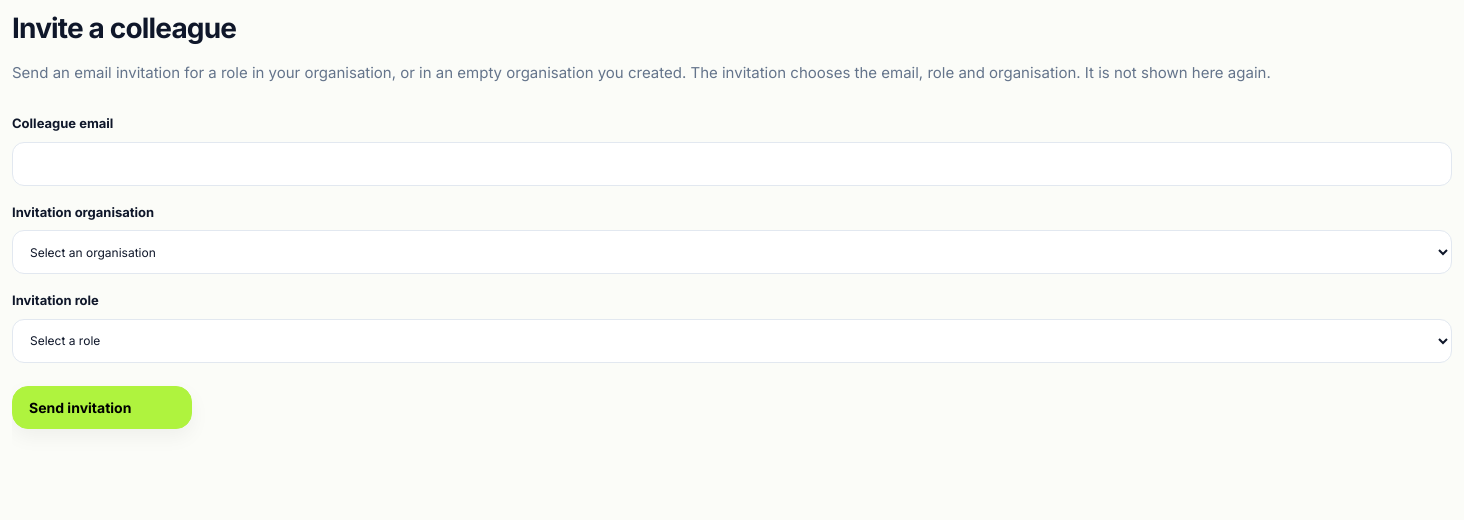
invite a colleague › shows success without a token and keeps a delivery failure visible
Type "guest@example.com" into the field labelled "Colleague email" at point(732, 164), box [12,142,1452,186]
Select "Harbourline Logistics (Demo)" in the dropdown labelled "Invitation organisation" at point(732, 252), box [12,230,1452,274]
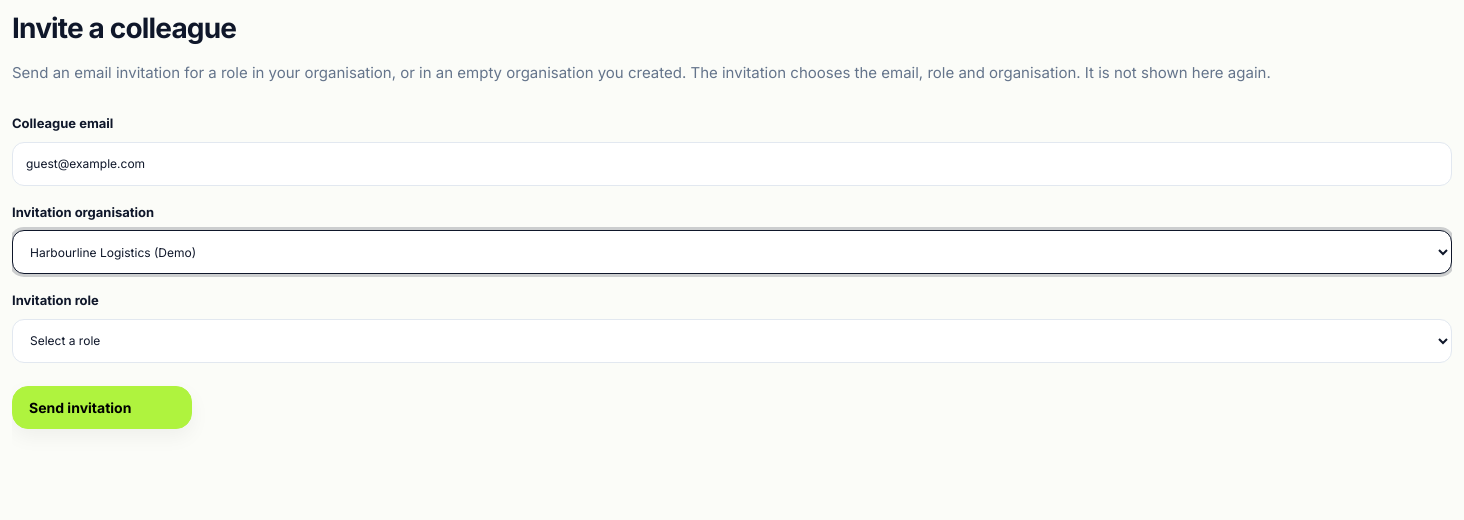
Select "Freight forwarder" in the dropdown labelled "Invitation role" at point(732, 340), box [12,318,1452,362]
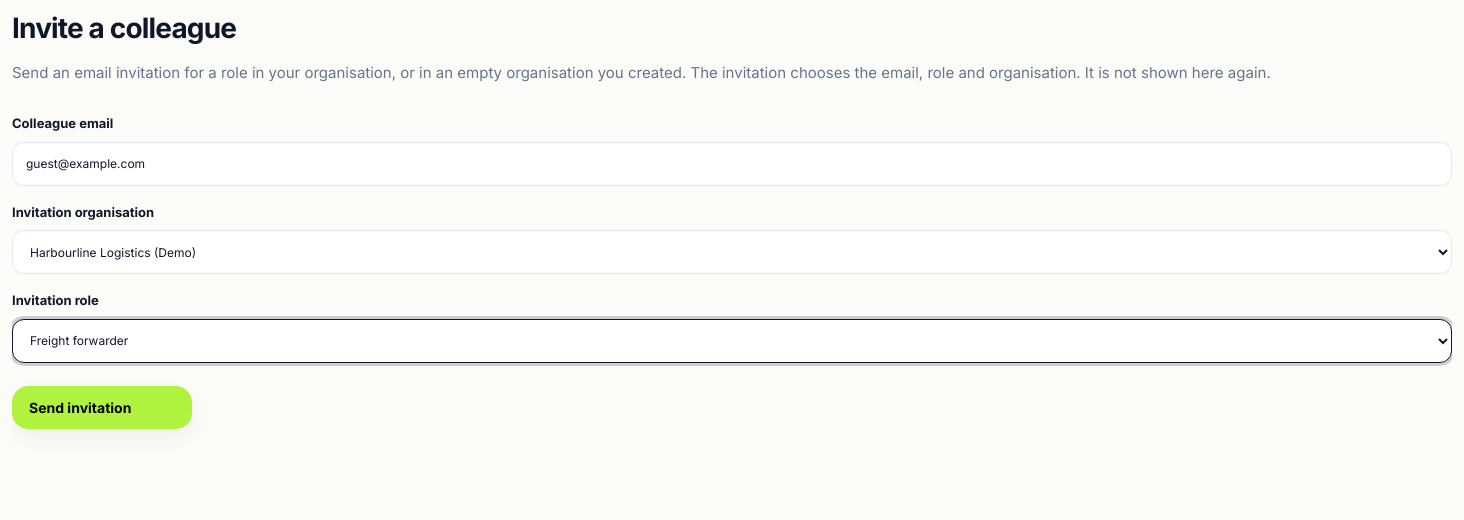
Click the button "Send invitation" at point(102, 407), box [12,386,192,428]
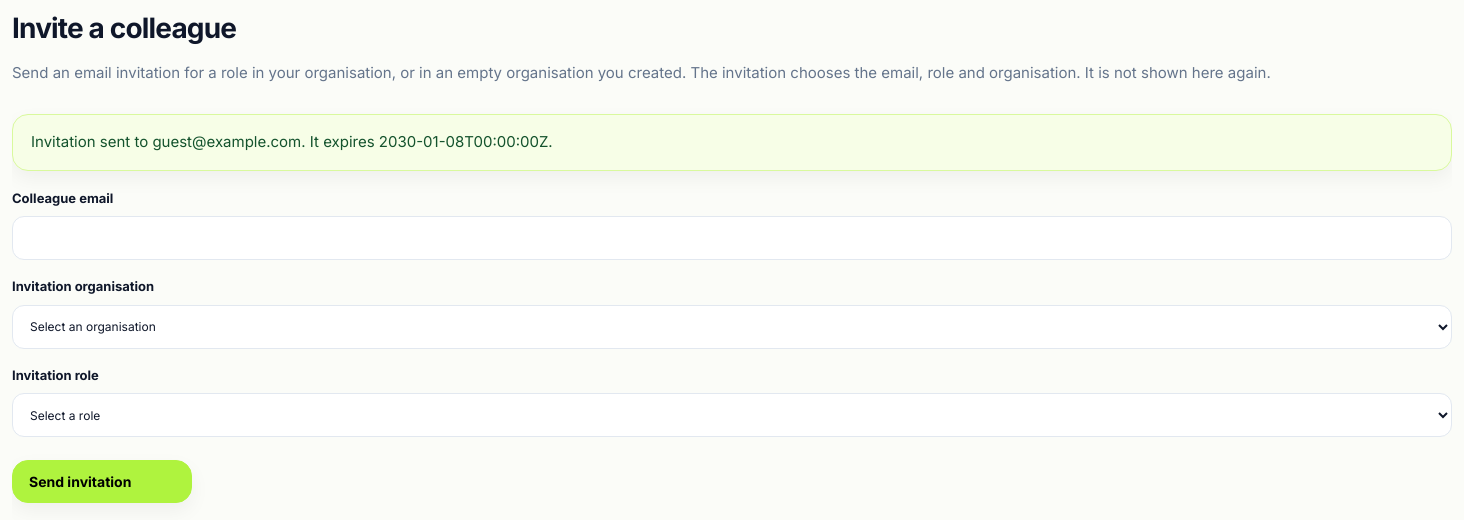
Expected: the message shows "Invitation sent to guest@example.com", [31,132,553,151]
Type "again@example.com" into the field labelled "Colleague email" at point(732, 238), box [12,216,1452,260]
Select "Harbourline Logistics (Demo)" in the dropdown labelled "Invitation organisation" at point(732, 326), box [12,304,1452,348]
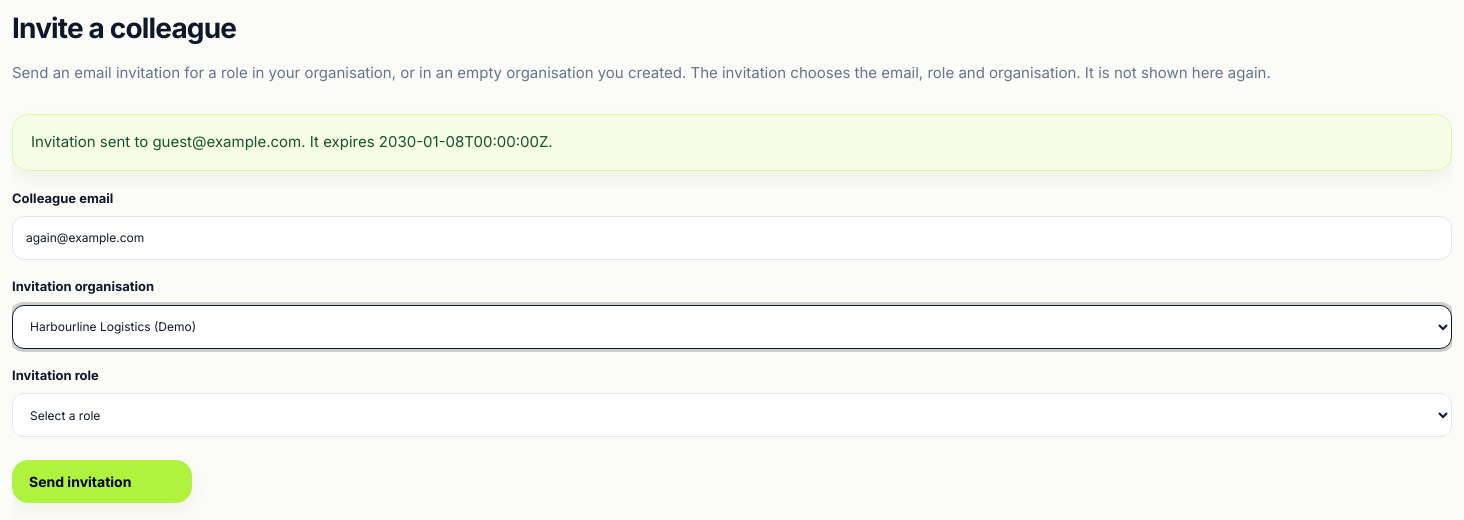
Select "Freight forwarder" in the dropdown labelled "Invitation role" at point(732, 415), box [12,393,1452,437]
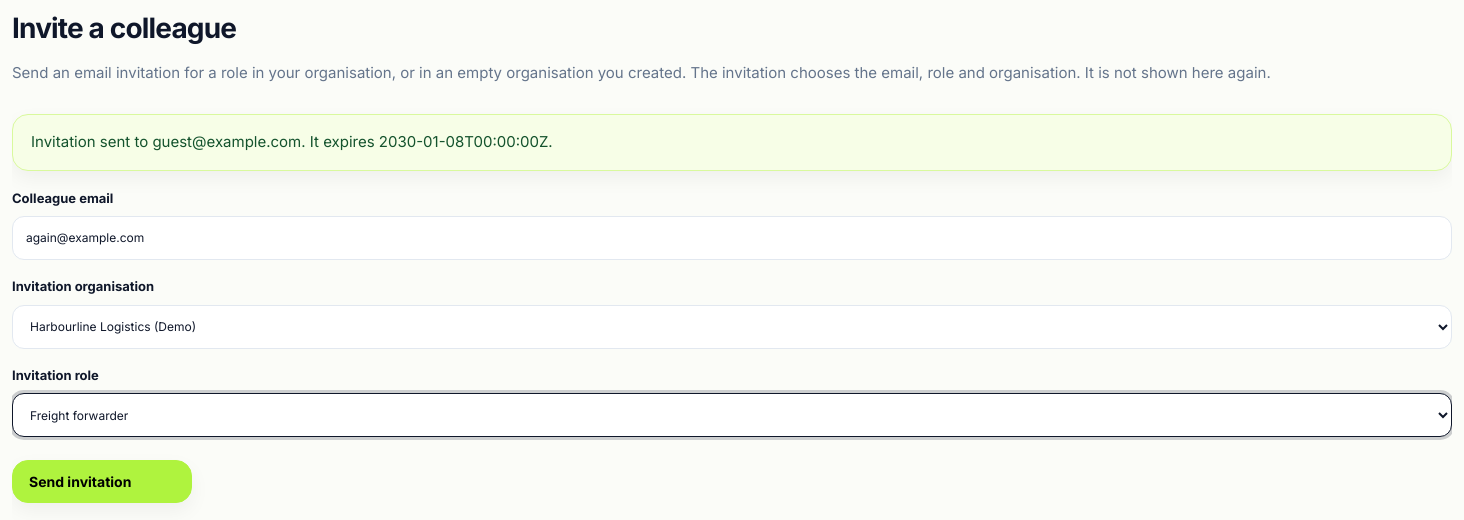
Click the button "Send invitation" at point(102, 482), box [12,460,192,503]
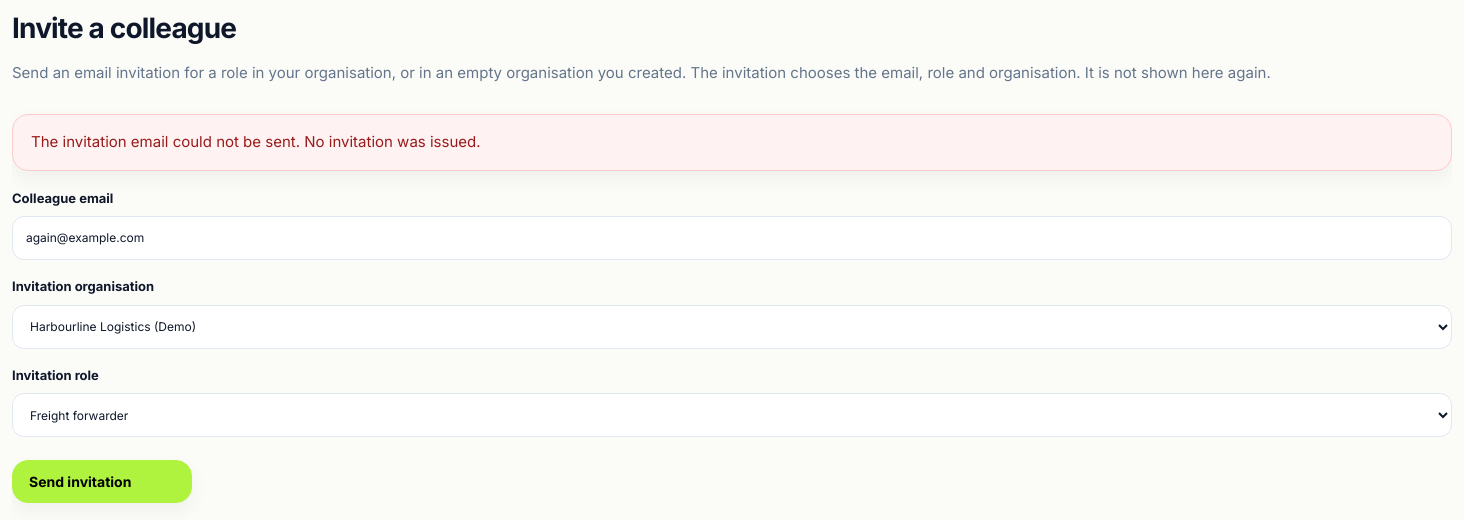
Expected: the message shows "could not be sent", [31,132,480,151]
